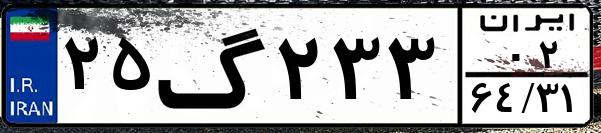0: (508, 27, 537, 80)
1: (560, 70, 590, 125)
2: (270, 28, 330, 110), (57, 26, 110, 100), (537, 27, 568, 80)
3: (385, 28, 445, 110), (330, 28, 385, 110), (535, 70, 560, 125)
4: (495, 70, 520, 125)
5: (110, 28, 156, 98)
6: (470, 70, 495, 125)
گ: (156, 12, 270, 120)
